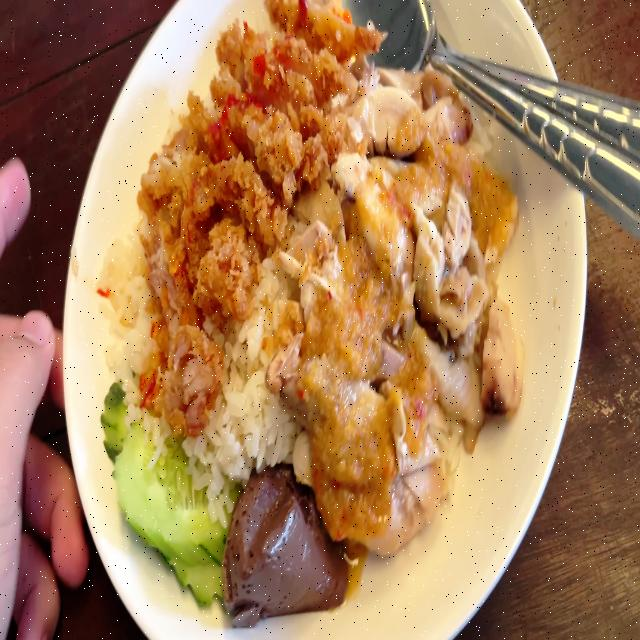boiled_chicken: (313, 90, 502, 530)
boiled_chicken_blood_jelly: (223, 454, 339, 615)
chicken_rice: (98, 0, 534, 619)
cucumber: (99, 361, 230, 600)
fried_chicken: (130, 0, 364, 415)
